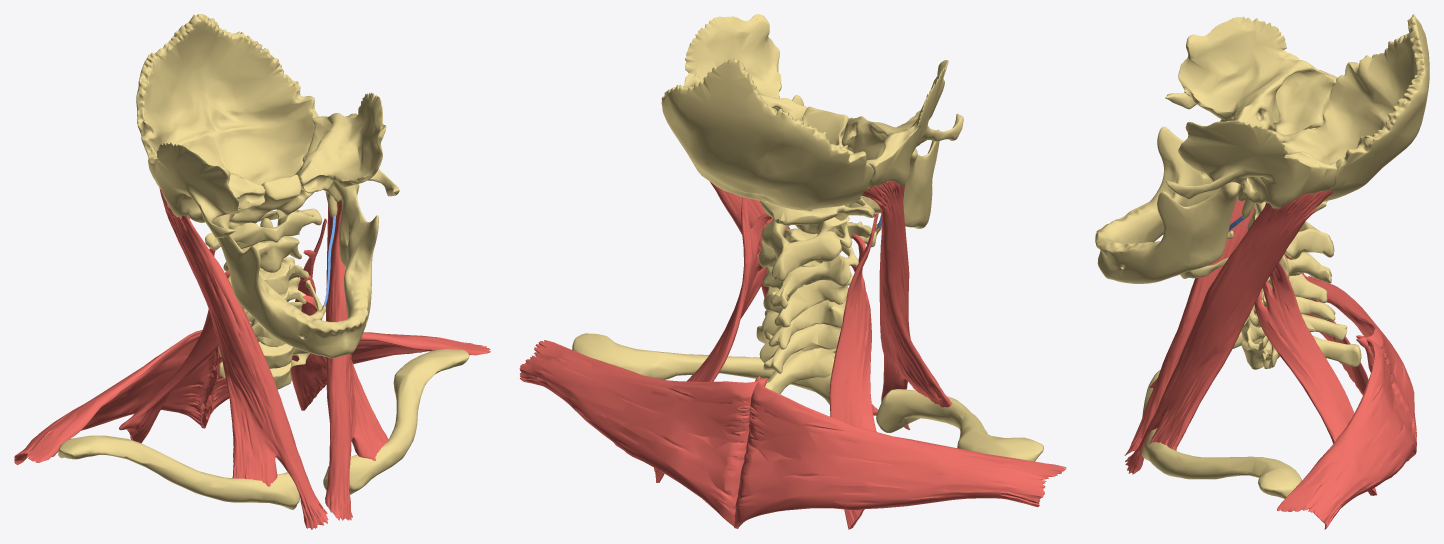
3 views of the same model, side by side, from view 1: azimuth 30°, elevation 25°; view 2: azimuth 150°, elevation 25°; view 3: azimuth 270°, elevation 25° (orthographic). The views are drawn at different scales.
Parts seen in each view (by area): view 1: head-neck:occiput:isa:FJ3309, head-neck:sternocleidomastoid:isa:FJ1595, head-neck:mandible:isa:FJ3289, shoulder:trapezius:isa:FJ1554, head-neck:sternocleidomastoid:isa:FJ1573, head-neck:temporal-bone:isa:FJ3281, head-neck:temporal-bone:isa:FJ3386, shoulder:clavicle:isa:FJ3362, shoulder:clavicle:isa:FJ3237, shoulder:trapezius:isa:FJ1554M, shoulder:levator-scapulae:isa:FJ1532, shoulder:levator-scapulae:isa:FJ1532M (+5 smaller); view 2: shoulder:trapezius:isa:FJ1554, shoulder:trapezius:isa:FJ1554M, head-neck:occiput:isa:FJ3309, head-neck:sternocleidomastoid:isa:FJ1595, shoulder:levator-scapulae:isa:FJ1532, head-neck:temporal-bone:isa:FJ3281, head-neck:temporal-bone:isa:FJ3386, shoulder:clavicle:isa:FJ3237, shoulder:clavicle:isa:FJ3362, shoulder:levator-scapulae:isa:FJ1532M, head-neck:axis:isa:FJ3177, head-neck:third-cervical-vertebra:isa:FJ3161 (+7 smaller); view 3: head-neck:occiput:isa:FJ3309, head-neck:temporal-bone:isa:FJ3386, head-neck:sternocleidomastoid:isa:FJ1573, head-neck:mandible:isa:FJ3289, shoulder:trapezius:isa:FJ1554M, head-neck:temporal-bone:isa:FJ3281, shoulder:levator-scapulae:isa:FJ1532M, shoulder:clavicle:isa:FJ3237, head-neck:sternocleidomastoid:isa:FJ1595, shoulder:trapezius:isa:FJ1554, head-neck:seventh-cervical-vertebra:isa:FJ3172, head-neck:sixth-cervical-vertebra:isa:FJ3170 (+6 smaller).
Part boxes in pixels (x1=…): head-neck:occiput:isa:FJ3309: x1=136, y1=14, x2=318, y2=223; head-neck:sternocleidomastoid:isa:FJ1595: x1=159, y1=188, x2=328, y2=529; head-neck:mandible:isa:FJ3289: x1=212, y1=180, x2=378, y2=358; shoulder:trapezius:isa:FJ1554: x1=14, y1=330, x2=221, y2=464; head-neck:sternocleidomastoid:isa:FJ1573: x1=325, y1=199, x2=389, y2=520; head-neck:temporal-bone:isa:FJ3281: x1=295, y1=92, x2=399, y2=216; head-neck:temporal-bone:isa:FJ3386: x1=148, y1=142, x2=265, y2=242; shoulder:clavicle:isa:FJ3362: x1=58, y1=435, x2=300, y2=509; shoulder:clavicle:isa:FJ3237: x1=323, y1=349, x2=469, y2=494; shoulder:trapezius:isa:FJ1554M: x1=201, y1=332, x2=490, y2=428; shoulder:levator-scapulae:isa:FJ1532: x1=119, y1=246, x2=229, y2=443; shoulder:levator-scapulae:isa:FJ1532M: x1=290, y1=218, x2=326, y2=410; shoulder:trapezius:isa:FJ1554: x1=734, y1=376, x2=1066, y2=528; shoulder:trapezius:isa:FJ1554M: x1=519, y1=340, x2=767, y2=528; head-neck:occiput:isa:FJ3309: x1=661, y1=58, x2=873, y2=210; head-neck:sternocleidomastoid:isa:FJ1595: x1=862, y1=180, x2=952, y2=430; shoulder:levator-scapulae:isa:FJ1532: x1=829, y1=212, x2=878, y2=529; head-neck:temporal-bone:isa:FJ3281: x1=684, y1=14, x2=807, y2=120; head-neck:temporal-bone:isa:FJ3386: x1=841, y1=60, x2=963, y2=188; shoulder:clavicle:isa:FJ3237: x1=572, y1=333, x2=831, y2=404; shoulder:clavicle:isa:FJ3362: x1=876, y1=389, x2=1043, y2=461; shoulder:levator-scapulae:isa:FJ1532M: x1=654, y1=197, x2=771, y2=482; head-neck:axis:isa:FJ3177: x1=762, y1=209, x2=852, y2=281; head-neck:third-cervical-vertebra:isa:FJ3161: x1=758, y1=228, x2=858, y2=308; head-neck:occiput:isa:FJ3309: x1=1267, y1=14, x2=1429, y2=201; head-neck:temporal-bone:isa:FJ3386: x1=1165, y1=16, x2=1337, y2=134; head-neck:sternocleidomastoid:isa:FJ1573: x1=1125, y1=189, x2=1332, y2=474; head-neck:mandible:isa:FJ3289: x1=1095, y1=117, x2=1240, y2=283; shoulder:trapezius:isa:FJ1554M: x1=1277, y1=335, x2=1416, y2=529; head-neck:temporal-bone:isa:FJ3281: x1=1165, y1=120, x2=1337, y2=218; shoulder:levator-scapulae:isa:FJ1532M: x1=1254, y1=262, x2=1376, y2=495; shoulder:clavicle:isa:FJ3237: x1=1142, y1=428, x2=1301, y2=498; head-neck:sternocleidomastoid:isa:FJ1595: x1=1124, y1=197, x2=1254, y2=455; shoulder:trapezius:isa:FJ1554: x1=1305, y1=275, x2=1416, y2=461; head-neck:seventh-cervical-vertebra:isa:FJ3172: x1=1241, y1=335, x2=1361, y2=369; head-neck:sixth-cervical-vertebra:isa:FJ3170: x1=1241, y1=314, x2=1347, y2=350.
Size of the model in its own units: 0.3265 by 0.2825 by 0.1918.
